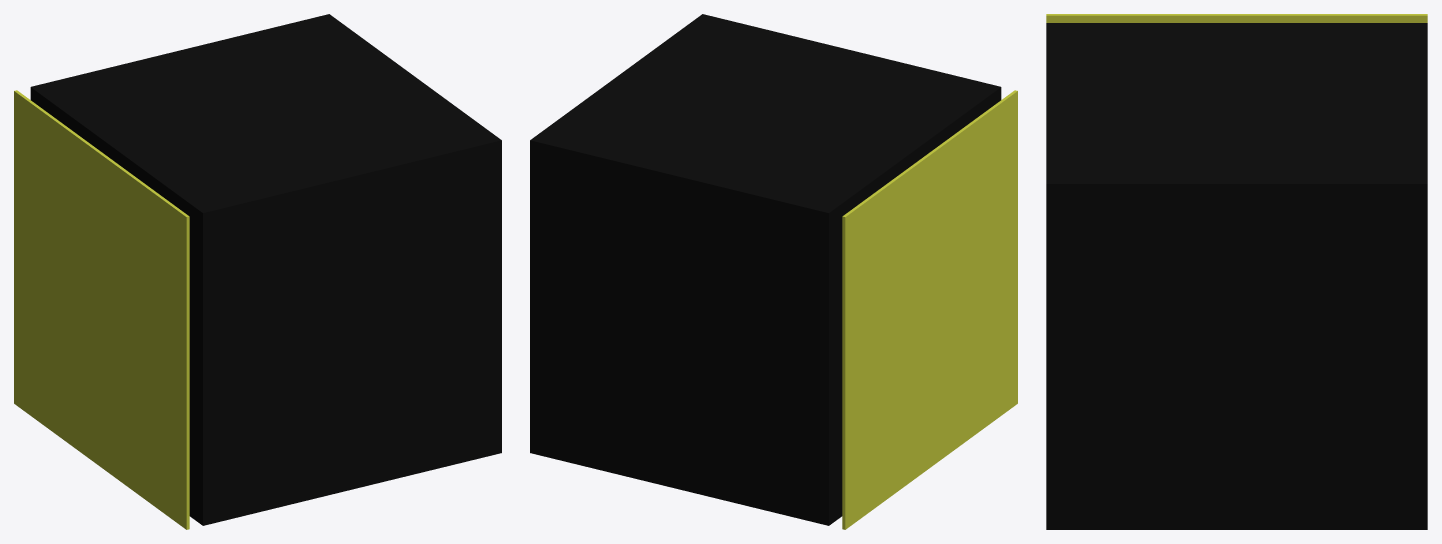
3 renders of one model, left to right at view 1: azimuth 30°, elevation 25°; view 2: azimuth 150°, elevation 25°; view 3: azimuth 270°, elevation 25°, orthographic. The views are drawn at different scales.
Visible parts, largest first — view 1: Cube, yellow-1; view 2: Cube, yellow-1; view 3: Cube, yellow-1.
Boxes of the visible parts, x1,y1,x2,y2 form: Cube: (30,14,501,525); yellow-1: (14,90,189,529); Cube: (530,14,1001,525); yellow-1: (842,90,1017,529); Cube: (1046,23,1427,529); yellow-1: (1046,14,1427,22).
Bounding box in the file's own units: 2.11 × 2 × 2.
